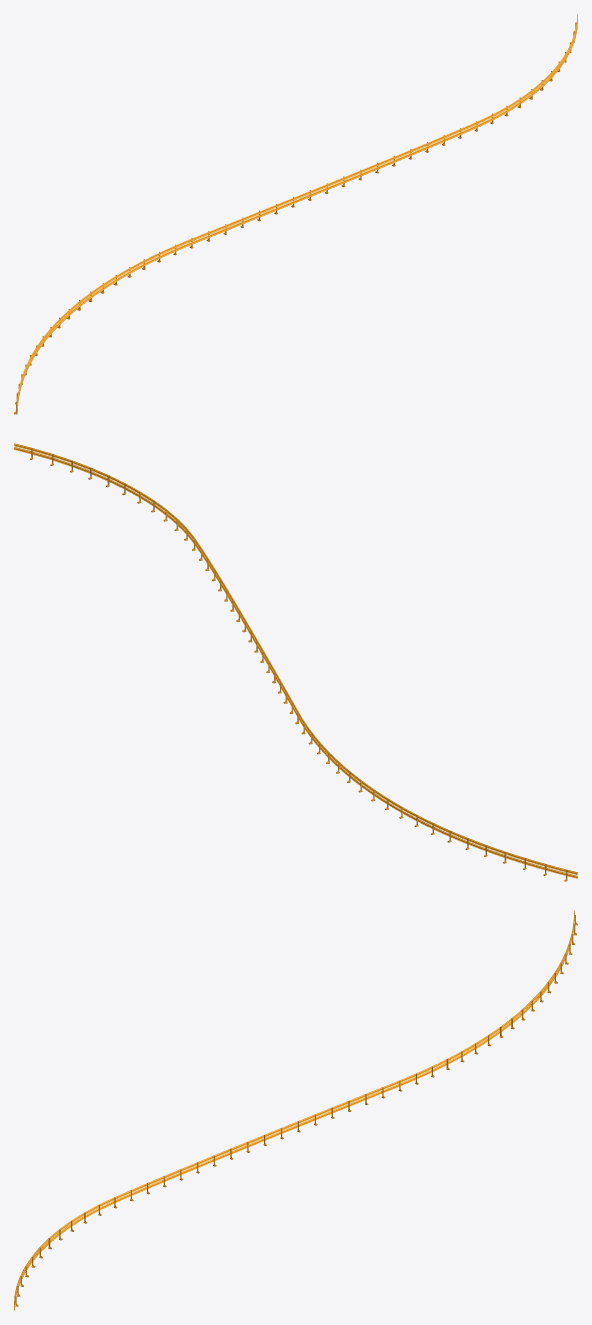
The model's file is SM_Fence_Road_WBeam_Double_Color_100x60m_Shift.fbx.
3 views of the same model, one above another, from view 1: azimuth 90°, elevation 25°; view 2: azimuth 150°, elevation 25°; view 3: azimuth 270°, elevation 25° (orthographic). The views are drawn at different scales.
Parts seen in each view (by area): view 1: SM_Fence_Road_WBeam_Double_Color_100x60m_Shift; view 2: SM_Fence_Road_WBeam_Double_Color_100x60m_Shift; view 3: SM_Fence_Road_WBeam_Double_Color_100x60m_Shift.
Boxes of the visible parts, left/top/right/bottom form: SM_Fence_Road_WBeam_Double_Color_100x60m_Shift: left=14, top=14, right=577, bottom=414; SM_Fence_Road_WBeam_Double_Color_100x60m_Shift: left=14, top=443, right=577, bottom=881; SM_Fence_Road_WBeam_Double_Color_100x60m_Shift: left=14, top=910, right=577, bottom=1310.
Size of the model in its own units: 100 by 1.2 by 60.4.
